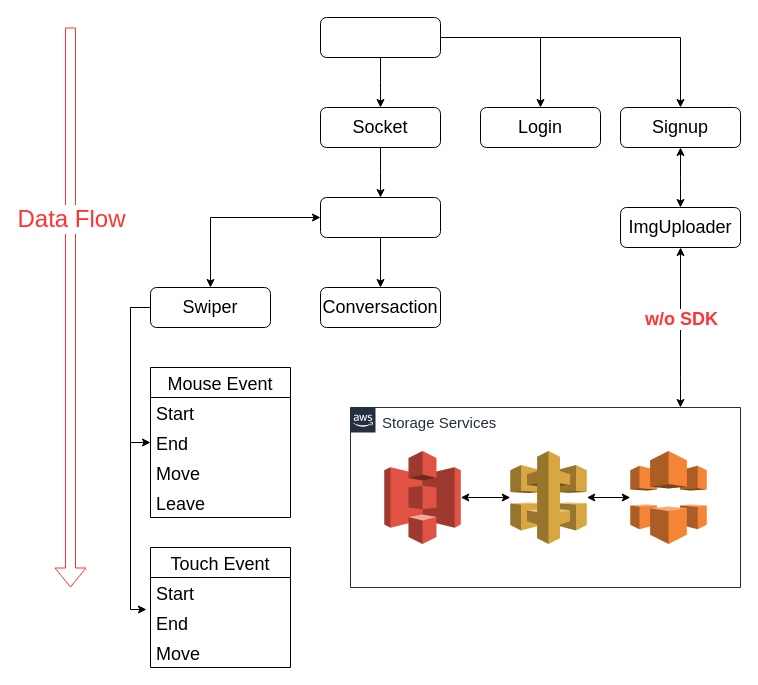
The diagram is 758 pixels wide and 685 high, and some of its shapes have lost their labels. The shapes that lost their labels are listed below. From the top down, each one's centre as x and y in pixels, then its label:
At pixel 380 37: "APP".
At pixel 380 217: "Matches".
At pixel 422 497: "S3 Bucket".
At pixel 548 497: "API Gateway".
At pixel 668 497: "CloudFront".
